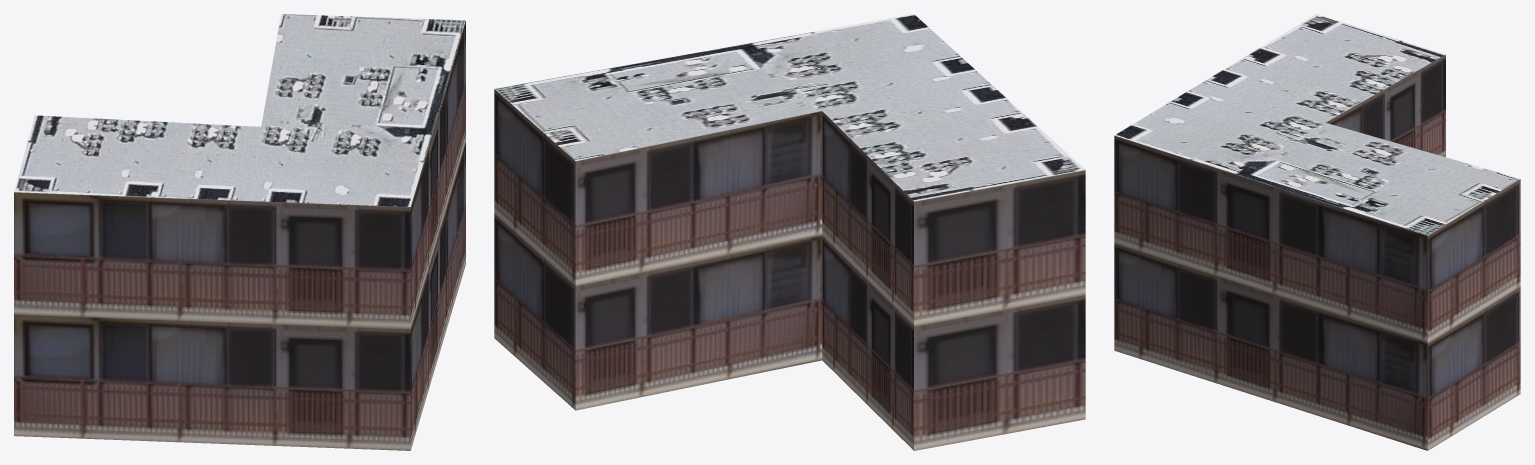
File: ResTex__4550.fbx
3 views of the same model, side by side, from view 1: azimuth 30°, elevation 25°; view 2: azimuth 150°, elevation 25°; view 3: azimuth 270°, elevation 25° (orthographic). The views are drawn at different scales.
Parts seen in each view (by area): view 1: CityEngineMaterial_6_m, CityEngineMaterial_8_m; view 2: CityEngineMaterial_6_m, CityEngineMaterial_8_m; view 3: CityEngineMaterial_6_m, CityEngineMaterial_8_m.
Part boxes in pixels (x1=…): CityEngineMaterial_6_m: x1=14, y1=21, x2=465, y2=450; CityEngineMaterial_8_m: x1=14, y1=14, x2=465, y2=206; CityEngineMaterial_6_m: x1=494, y1=89, x2=1085, y2=450; CityEngineMaterial_8_m: x1=494, y1=14, x2=1084, y2=201; CityEngineMaterial_6_m: x1=1114, y1=55, x2=1520, y2=450; CityEngineMaterial_8_m: x1=1114, y1=14, x2=1520, y2=235.
Size of the model in its own units: 13.26 by 6 by 10.27.
Materials: 2 (2 with a texture image).
